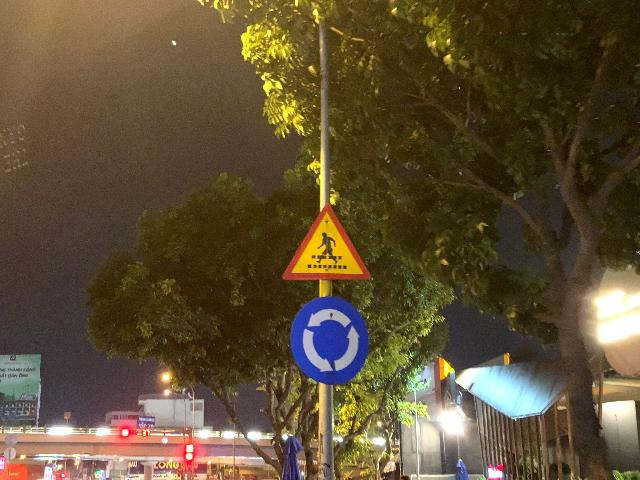duong-nguoi-di-bo-cat-ngang: (281, 203, 372, 280)
noi-giao-nhau-chay-theo-vong-xuyen: (291, 295, 368, 385)
